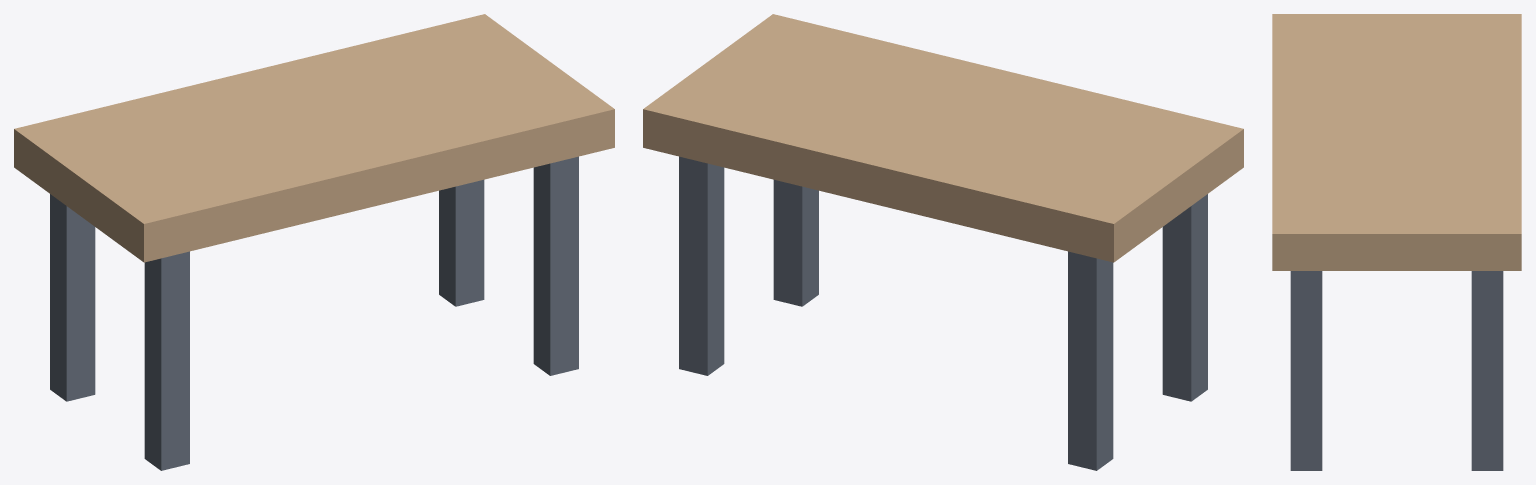
File: workbench.glb
3 renders of one model, left to right at view 1: azimuth 30°, elevation 25°; view 2: azimuth 150°, elevation 25°; view 3: azimuth 270°, elevation 25°, orthographic. The views are drawn at different scales.
Visible parts, largest first — view 1: world; view 2: world; view 3: world.
Boxes of the visible parts, x1=… form: world: x1=14, y1=14, x2=614, y2=470; world: x1=643, y1=14, x2=1243, y2=470; world: x1=1272, y1=14, x2=1521, y2=470.
Bounding box in the file's own units: 2.3 × 1.22 × 1.1.
